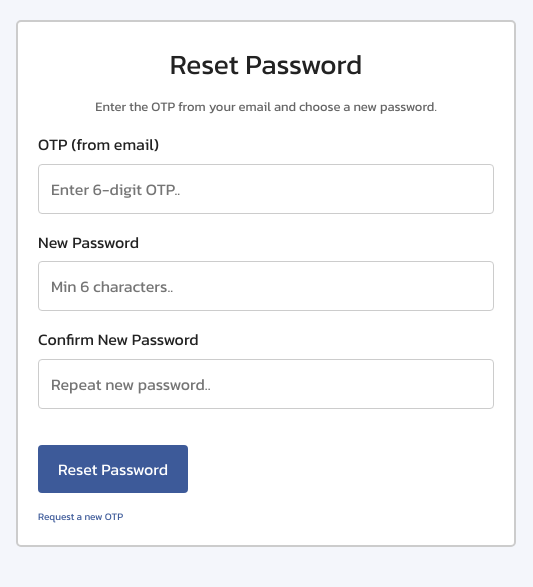
Test: ResetPassword — validation › shows error when new password is empty
The image size is (533, 587).
Type "123456" into the field with placeholder "Enter 6-digit OTP..".
click(266, 188); type("123456")  # box [38,164,494,214]
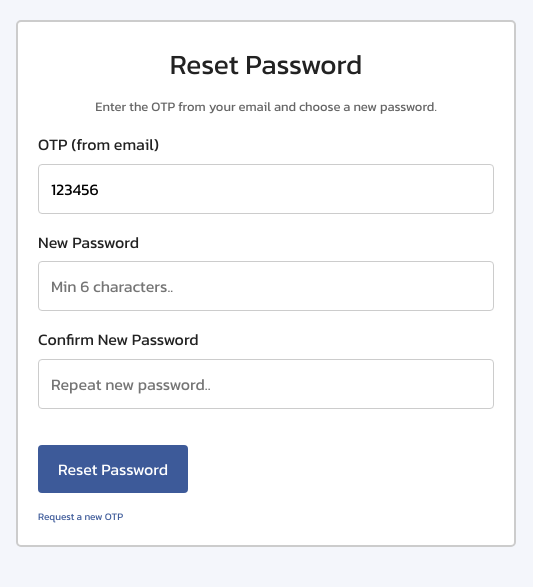
Click the button showing "Reset Password".
click(113, 469)  # box [38,445,188,493]
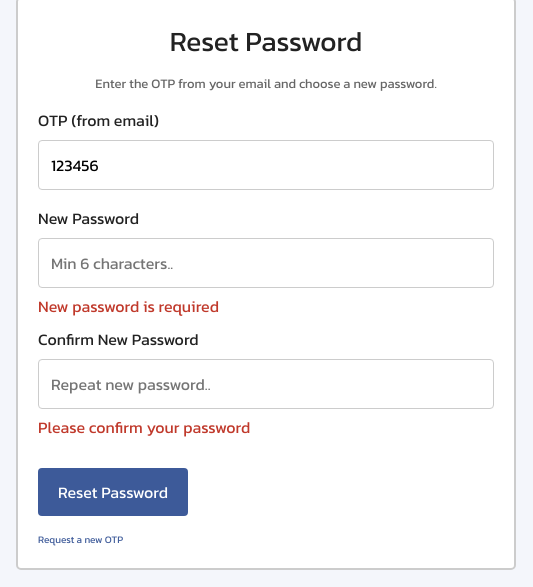
expect the text "New password is required" is shown: met, box [38,294,219,318]
